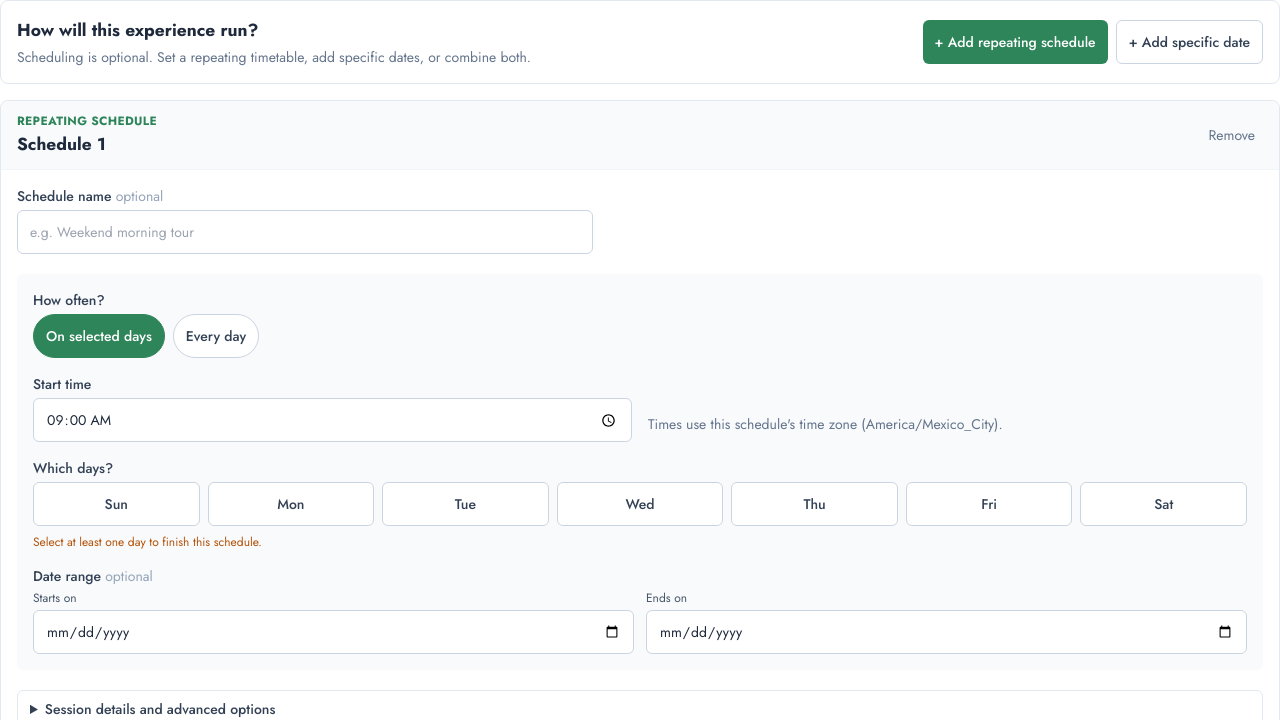
it: ScheduleBuilder › builds a weekly schedule and supports a custom daily recurrence choice
The image size is (1280, 720).
Click the button "Mon": point(291, 504) [208,482,374,526]
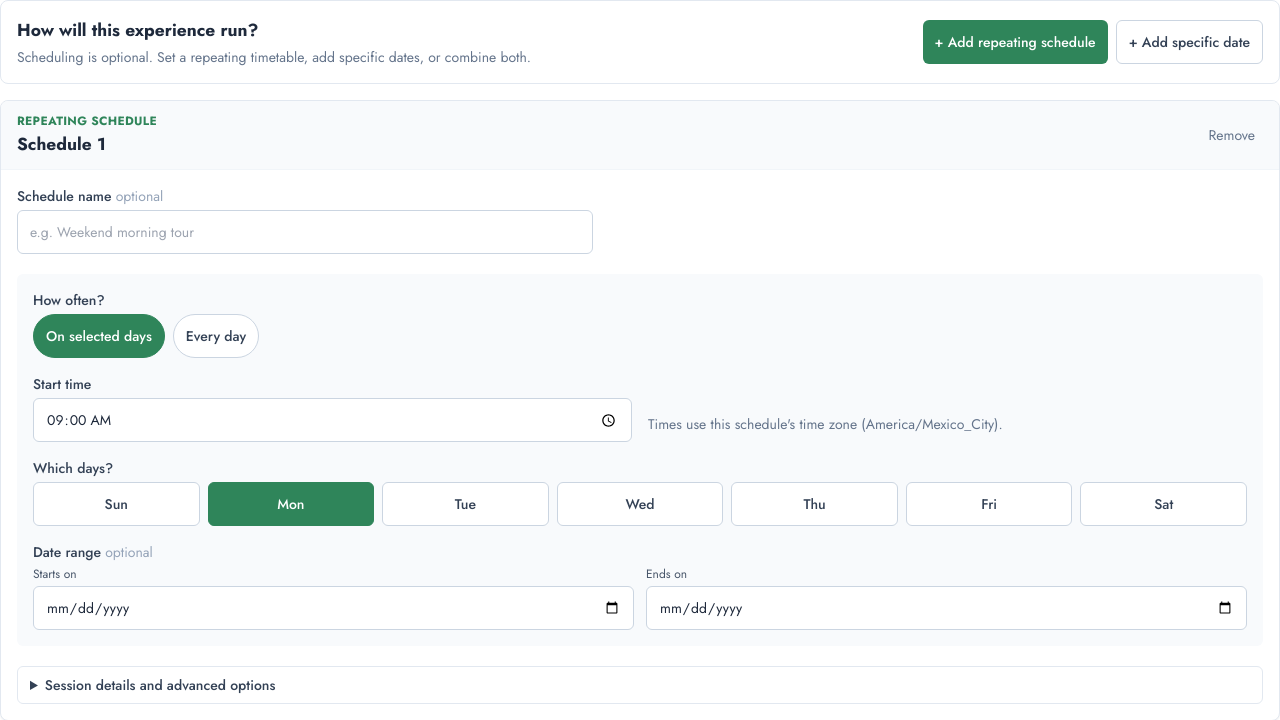
Expected: the button "Mon" is pressed, [208,482,374,526]
Click the button "Every day": point(216, 336) [173,314,259,358]
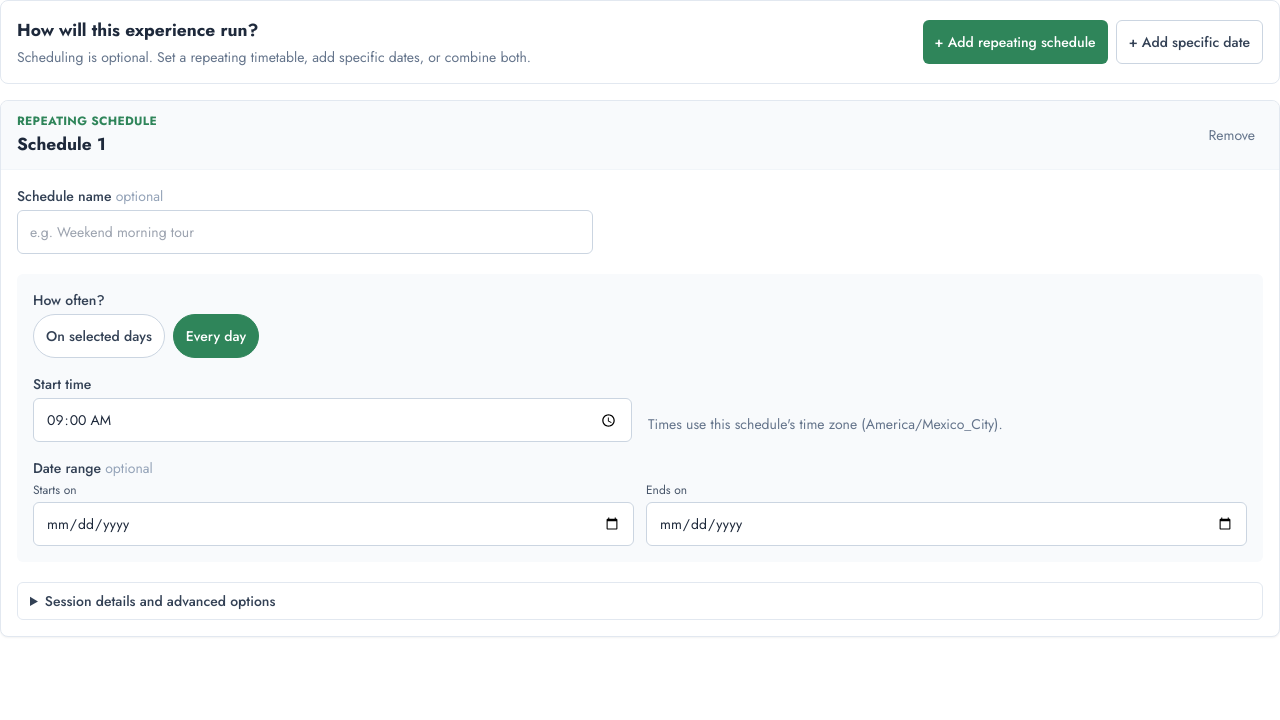
Expected: the text "Which days?" is gone
